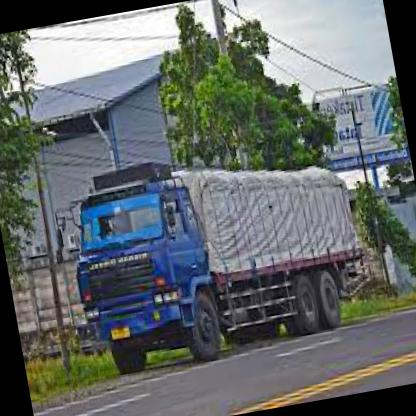truck: (62, 171, 228, 384)
